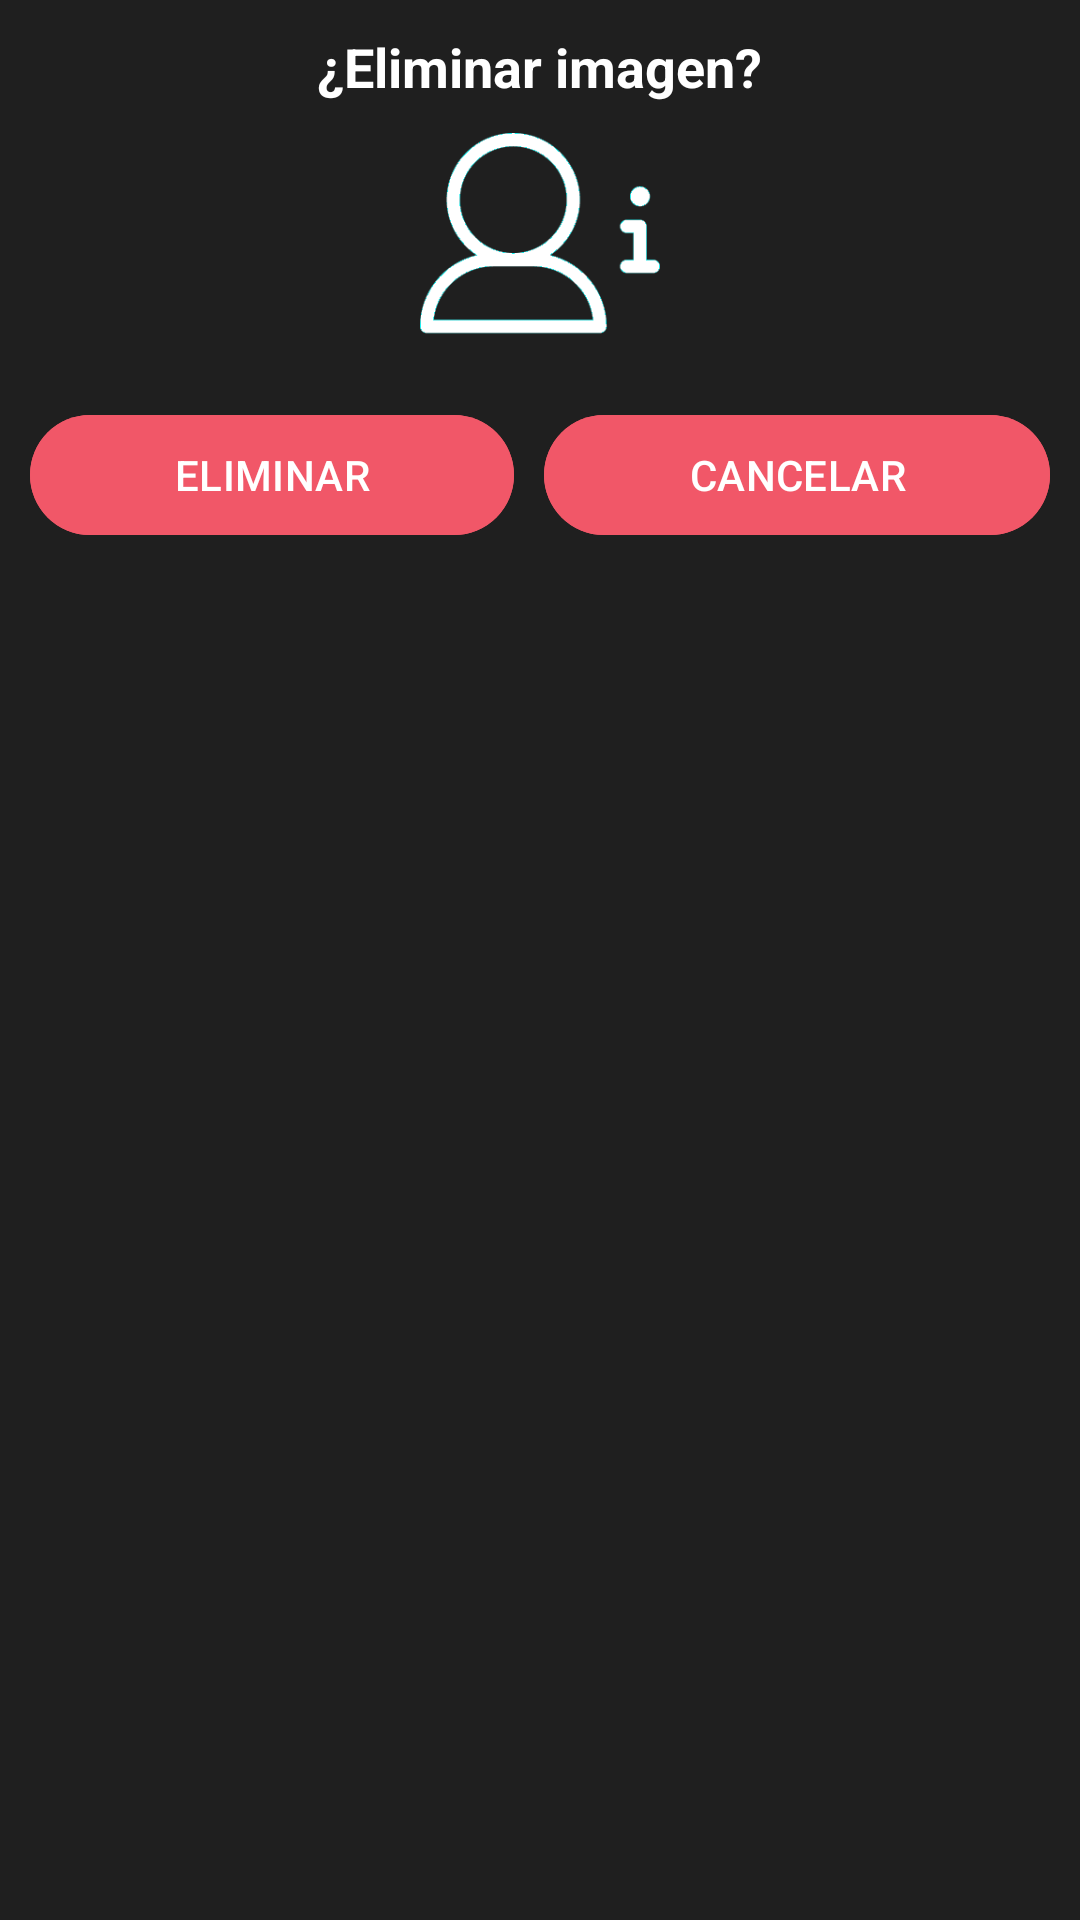

Locate icon controls on the screen. Image size 1080*1920, boxes as (x1, y1, x2, y2).
info: (420, 133, 660, 334)
